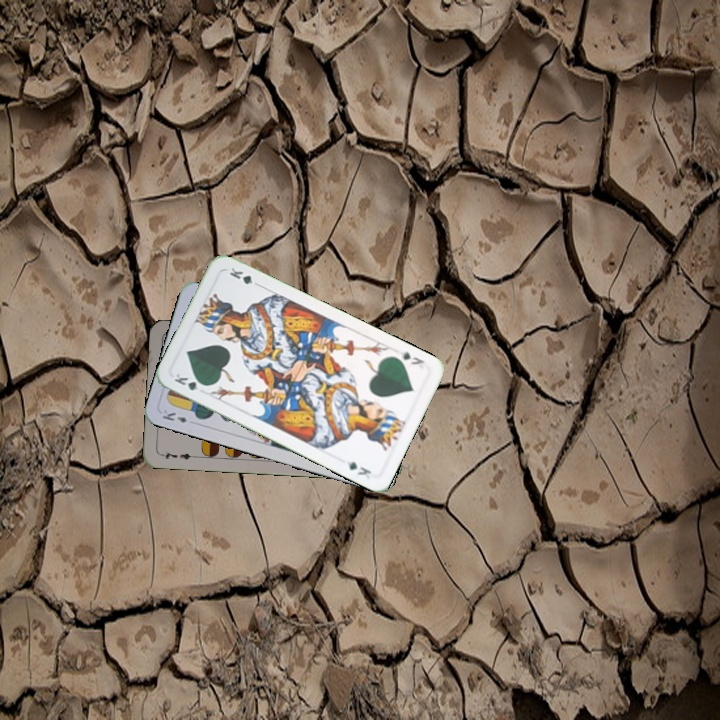E7: (157, 448, 198, 462)
EK: (158, 406, 190, 425)
GK: (170, 369, 210, 394), (395, 347, 427, 367)
